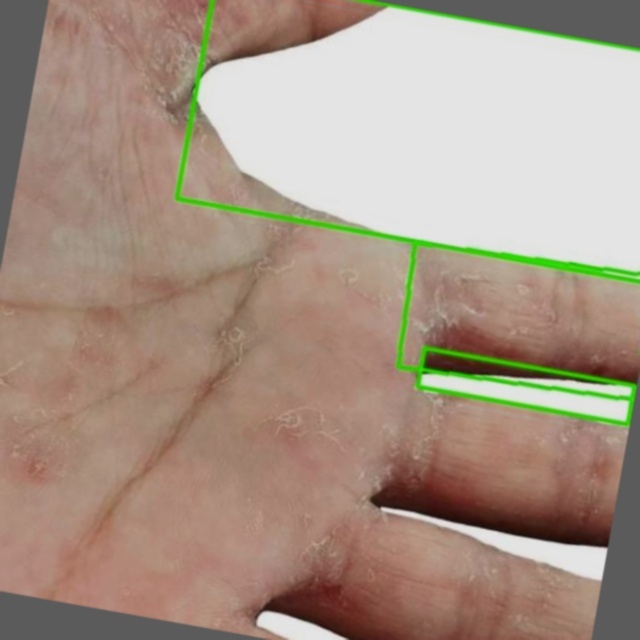Scabies: (176, 0, 639, 281), (398, 243, 639, 401), (418, 349, 635, 425)
